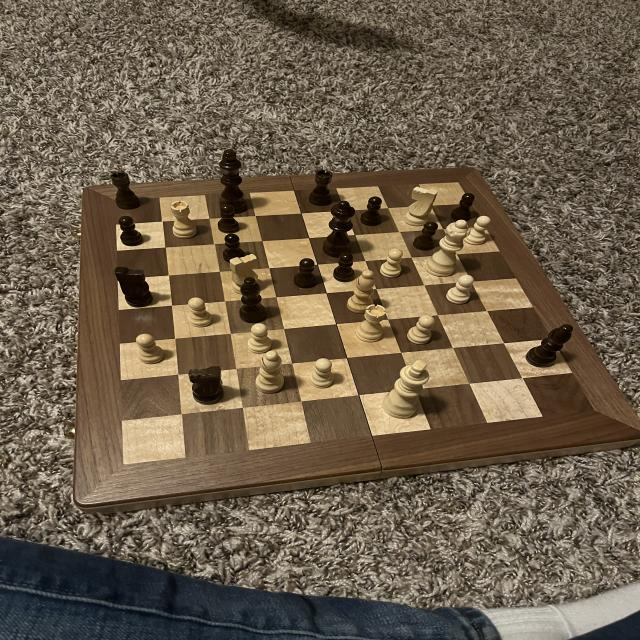bishop: (523, 322, 576, 371), (234, 275, 272, 325)
black-bishop: (217, 144, 252, 218)
black-king: (111, 265, 158, 309), (186, 363, 230, 408)
black-knight: (115, 213, 149, 249), (447, 190, 478, 228), (220, 232, 250, 266), (215, 200, 243, 236), (292, 256, 321, 290), (358, 194, 387, 228), (332, 250, 358, 284), (411, 220, 436, 253)
black-pawn: (320, 198, 360, 261)
black-queen: (109, 170, 141, 212), (306, 169, 338, 208)
black-rook: (344, 267, 380, 314), (255, 348, 287, 397)
white-bishop: (380, 360, 432, 422), (424, 218, 474, 280)
white-king: (401, 185, 440, 228), (228, 252, 266, 294)
white-knight: (370, 244, 408, 281), (442, 273, 479, 308), (132, 332, 168, 367), (304, 355, 339, 391), (401, 313, 438, 347), (244, 321, 277, 354), (461, 213, 493, 246), (185, 296, 214, 330)
white-queen: (354, 302, 388, 346), (168, 199, 199, 240)
